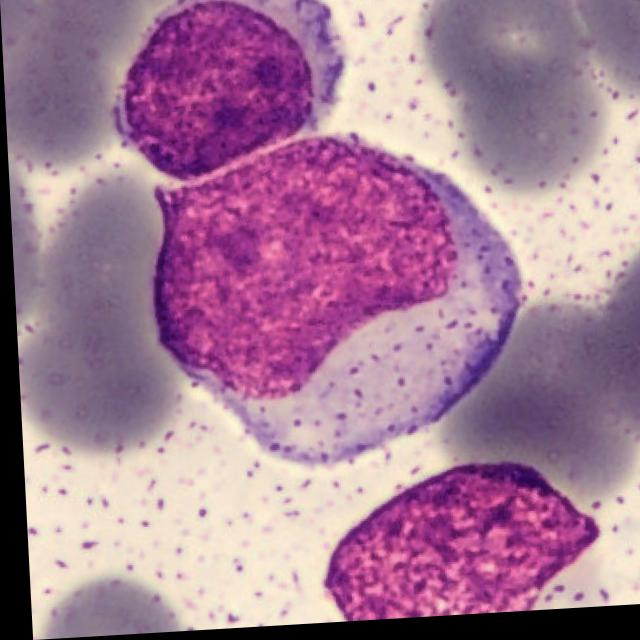Mieloblasto: (150, 136, 517, 470), (318, 464, 593, 626), (110, 0, 343, 182)
